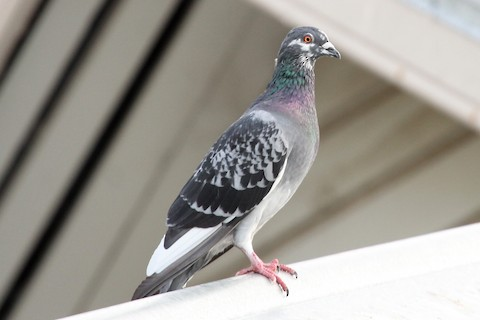pigeon: (124, 23, 346, 306)
